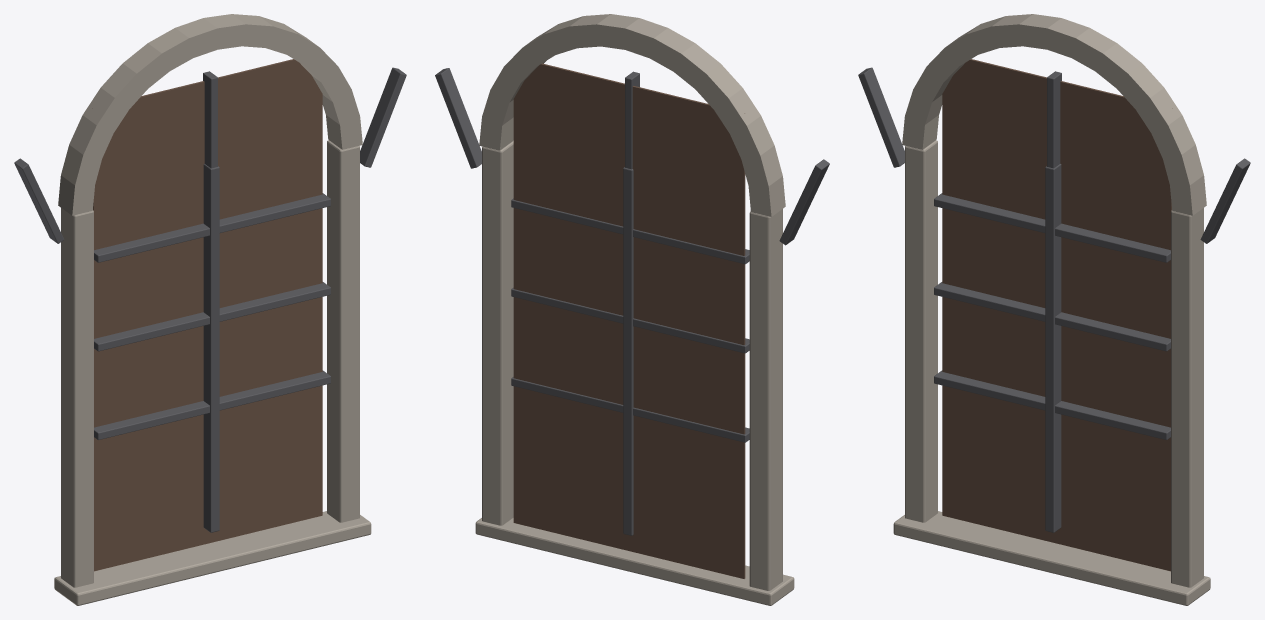
3 views of the same model, side by side, from view 1: azimuth 30°, elevation 25°; view 2: azimuth 150°, elevation 25°; view 3: azimuth 330°, elevation 25° (orthographic).
Visible parts, largest first — view 1: windowArch; view 2: windowArch; view 3: windowArch.
Part boxes in pixels (bbox=[...]): windowArch: bbox=[14, 14, 406, 605]; windowArch: bbox=[435, 14, 829, 605]; windowArch: bbox=[858, 14, 1250, 605].
Size of the model in its own units: 1.88 by 2.51 by 0.2.
